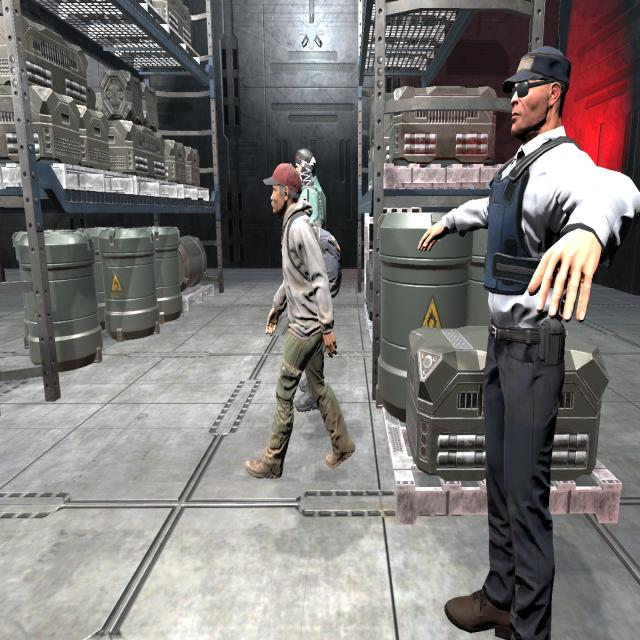thiefs: (240, 157, 358, 485)
